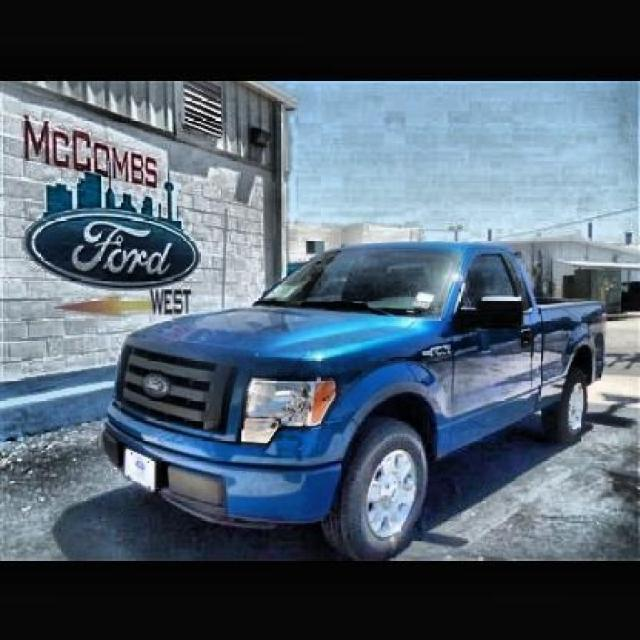blue: (108, 242, 607, 530)
